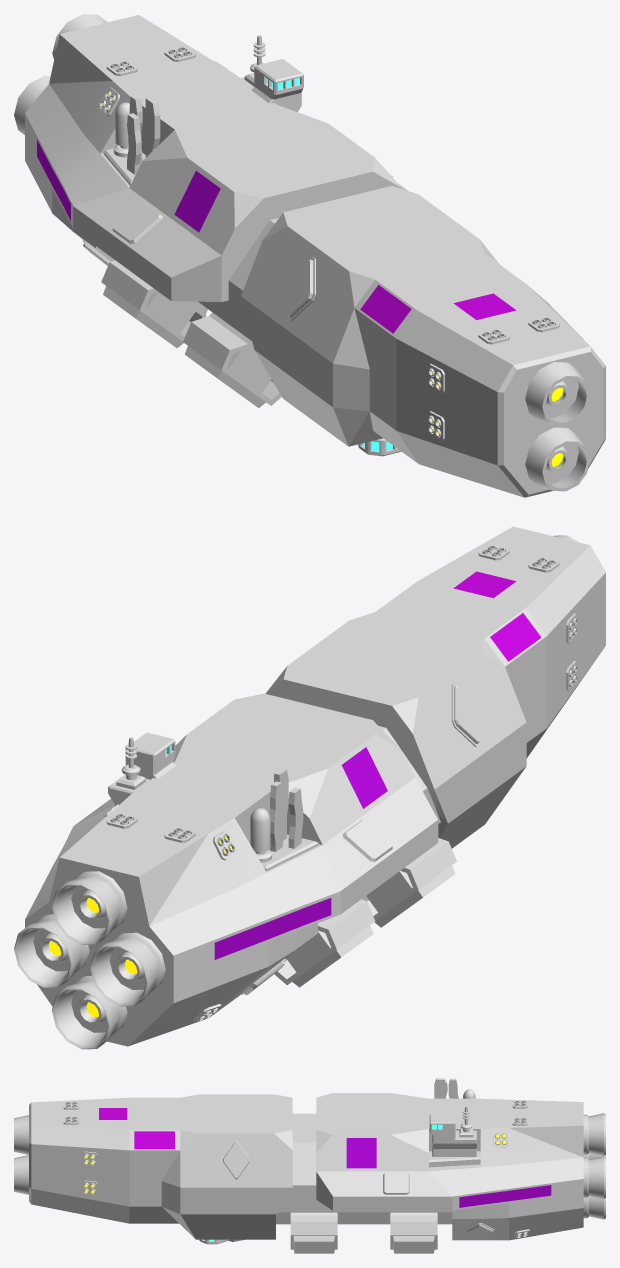
File: ACV_Acheron_Visual.fbx
3 renders of one model, top to bottom at view 1: azimuth 30°, elevation 25°; view 2: azimuth 150°, elevation 25°; view 3: azimuth 270°, elevation 25°, orthographic. The views are drawn at different scales.
Parts seen in each view (by area): view 1: ACV_Acheron_Bow_Nameplate, ACV_Acheron_Stern_Nameplate, ACV_Acheron_Engines; view 2: ACV_Acheron_Stern_Nameplate, ACV_Acheron_Bow_Nameplate, ACV_Acheron_Engines; view 3: ACV_Acheron_Bow_Nameplate, ACV_Acheron_Stern_Nameplate, ACV_Acheron_Engines.
Part boxes in pixels (box(x1,y1,x2,y2)): ACV_Acheron_Bow_Nameplate: box(101, 186, 605, 497); ACV_Acheron_Stern_Nameplate: box(25, 15, 407, 302); ACV_Acheron_Engines: box(14, 14, 589, 491); ACV_Acheron_Stern_Nameplate: box(25, 693, 438, 1046); ACV_Acheron_Bow_Nameplate: box(265, 526, 605, 987); ACV_Acheron_Engines: box(14, 535, 578, 1049); ACV_Acheron_Bow_Nameplate: box(29, 1094, 452, 1253); ACV_Acheron_Stern_Nameplate: box(316, 1078, 583, 1240); ACV_Acheron_Engines: box(14, 1100, 605, 1238).
Size of the model in its own units: 466 by 1466 by 399.
